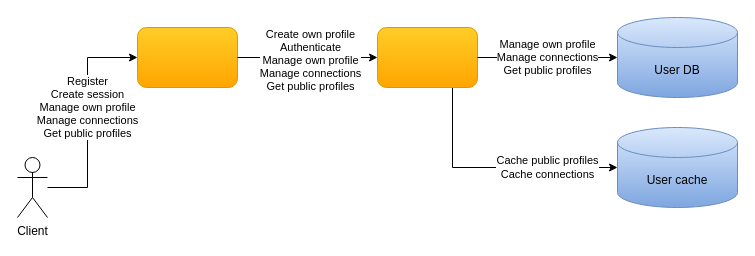
Some shapes in this 755 by 256 pixel diagram are drawn without their labels. The shapes that lost their labels are listed below. From the top down, each one's centre as x and y in pixels, then its label:
point 187,57: Backend For Frontend
point 427,57: User
